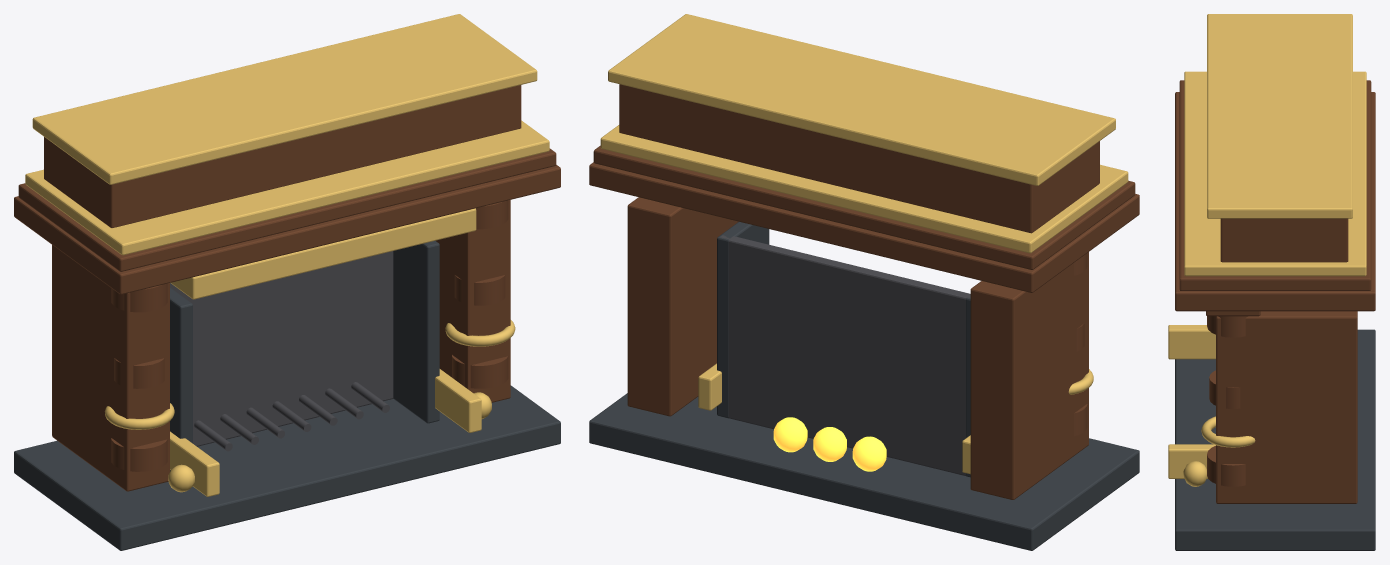
Rendered from blender_s1_fireplace_mantel.glb.
3 renders of one model, left to right at view 1: azimuth 30°, elevation 25°; view 2: azimuth 150°, elevation 25°; view 3: azimuth 270°, elevation 25°, orthographic. The views are drawn at different scales.
Parts seen in each view (by area): view 1: Fireplace_FriezeCap, Fireplace_Hearth, Fireplace_Firebox, Fireplace_Frieze, Fireplace_Jamb_-1, Fireplace_Shelf2, Fireplace_Shelf0, Fireplace_Shelf1, Fireplace_Jamb_1, Fireplace_FireboxCheek_1, Fireplace_Lintel, Fireplace_FireboxCheek_-1 (+10 smaller); view 2: Fireplace_Firebox, Fireplace_FriezeCap, Fireplace_Hearth, Fireplace_Frieze, Fireplace_Jamb_-1, Fireplace_Jamb_1, Fireplace_Shelf0, Fireplace_Shelf2, Fireplace_Shelf1, Fireplace_FireboxCheek_1, Fireplace_Ember_0, Fireplace_Ember_2 (+3 smaller); view 3: Fireplace_FriezeCap, Fireplace_Jamb_1, Fireplace_Hearth, Fireplace_Shelf2, Fireplace_Shelf0, Fireplace_Frieze, Fireplace_Shelf1, Fireplace_Fender_-1, Fireplace_Fender_1, Fireplace_Column_1_0, Fireplace_ColumnRing_1, Fireplace_Column_1_2 (+3 smaller).
Boxes of the visible parts, left/top/right/bottom form: Fireplace_FriezeCap: left=32, top=14, right=537, bottom=184; Fireplace_Hearth: left=14, top=385, right=560, bottom=550; Fireplace_Firebox: left=170, top=251, right=393, bottom=446; Fireplace_Frieze: left=44, top=85, right=521, bottom=227; Fireplace_Jamb_-1: left=52, top=245, right=169, bottom=491; Fireplace_Shelf2: left=25, top=120, right=549, bottom=255; Fireplace_Shelf0: left=14, top=165, right=560, bottom=294; Fireplace_Shelf1: left=18, top=148, right=556, bottom=271; Fireplace_Jamb_1: left=435, top=200, right=510, bottom=402; Fireplace_FireboxCheek_1: left=393, top=241, right=439, bottom=423; Fireplace_Lintel: left=170, top=208, right=476, bottom=299; Fireplace_FireboxCheek_-1: left=170, top=287, right=192, bottom=471; Fireplace_Firebox: left=720, top=235, right=970, bottom=475; Fireplace_FriezeCap: left=608, top=14, right=1115, bottom=185; Fireplace_Hearth: left=589, top=393, right=1139, bottom=550; Fireplace_Frieze: left=619, top=84, right=1099, bottom=233; Fireplace_Jamb_-1: left=970, top=252, right=1088, bottom=499; Fireplace_Jamb_1: left=627, top=197, right=738, bottom=416; Fireplace_Shelf0: left=589, top=162, right=1139, bottom=292; Fireplace_Shelf2: left=600, top=125, right=1128, bottom=253; Fireplace_Shelf1: left=593, top=145, right=1135, bottom=269; Fireplace_FireboxCheek_1: left=717, top=221, right=769, bottom=418; Fireplace_Ember_0: left=852, top=436, right=886, bottom=471; Fireplace_Ember_2: left=773, top=417, right=807, bottom=452; Fireplace_FriezeCap: left=1207, top=14, right=1352, bottom=218; Fireplace_Jamb_1: left=1216, top=311, right=1357, bottom=503; Fireplace_Hearth: left=1175, top=329, right=1375, bottom=550; Fireplace_Shelf2: left=1184, top=71, right=1366, bottom=276; Fireplace_Shelf0: left=1175, top=92, right=1375, bottom=311; Fireplace_Frieze: left=1220, top=218, right=1348, bottom=262; Fireplace_Shelf1: left=1179, top=80, right=1371, bottom=290; Fireplace_Fender_-1: left=1168, top=325, right=1215, bottom=359; Fireplace_Fender_1: left=1168, top=444, right=1215, bottom=478; Fireplace_Column_1_0: left=1207, top=446, right=1245, bottom=486; Fireplace_ColumnRing_1: left=1201, top=416, right=1255, bottom=447; Fireplace_Column_1_2: left=1207, top=316, right=1247, bottom=337.
Bounding box in the file's own units: 2.02 × 1.59 × 0.88.
